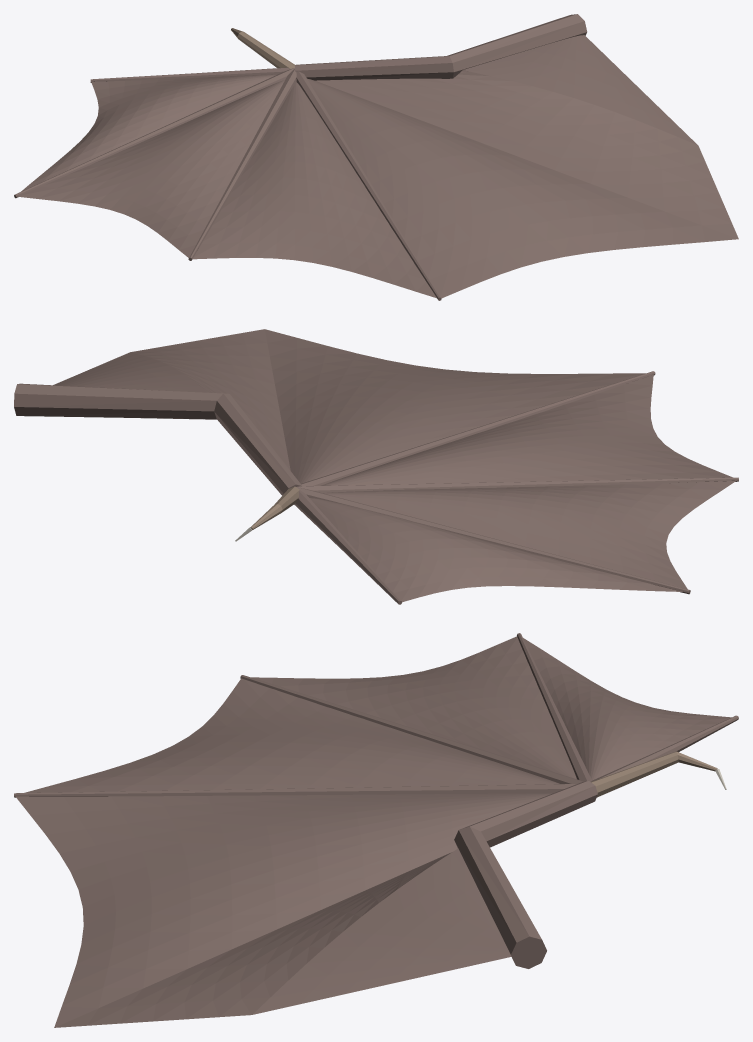
File: bat_wing_l_original_01.glb
The picture shows the model from 3 angles, top to bottom: view 1: azimuth 30°, elevation 25°; view 2: azimuth 150°, elevation 25°; view 3: azimuth 270°, elevation 25°; orthographic projection. The views are drawn at different scales.
Visible parts, largest first — view 1: B0_WingL, B0_WingStrutsL, B0_ThumbL; view 2: B0_WingL, B0_WingStrutsL, B0_ThumbL; view 3: B0_WingL, B0_WingStrutsL, B0_ThumbL.
Boxes of the visible parts, <box> form: B0_WingL: <box>18,35,738,298</box>; B0_WingStrutsL: <box>14,14,587,300</box>; B0_ThumbL: <box>231,28,294,69</box>; B0_WingL: <box>53,329,736,602</box>; B0_WingStrutsL: <box>14,371,738,604</box>; B0_ThumbL: <box>250,486,299,529</box>; B0_WingL: <box>16,636,731,1027</box>; B0_WingStrutsL: <box>14,633,738,968</box>; B0_ThumbL: <box>591,751,717,797</box>.
Bounding box in the file's own units: 0.8654 × 0.136 × 0.7326.
